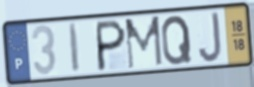3: (30, 22, 59, 78)
I: (67, 21, 82, 75)
J: (197, 10, 223, 64)
M: (123, 13, 165, 72)
P: (95, 17, 128, 73)
Q: (160, 13, 194, 67)
